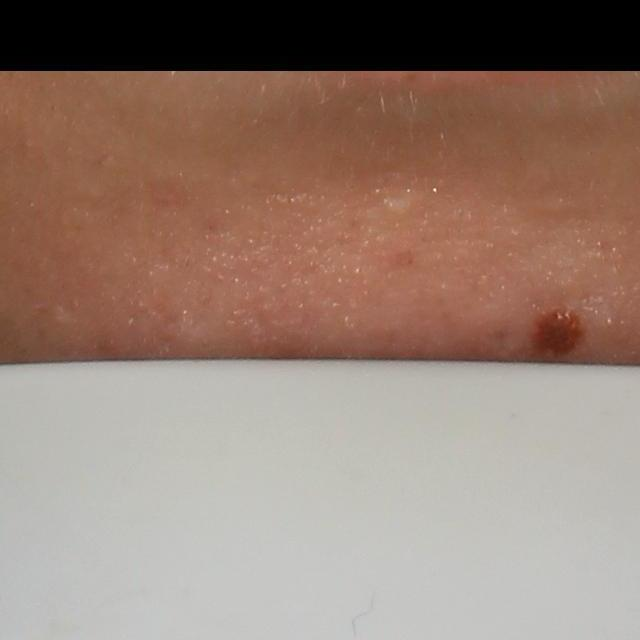hypertrophic_scar: (373, 195, 426, 220)
nevus: (536, 310, 584, 353)
